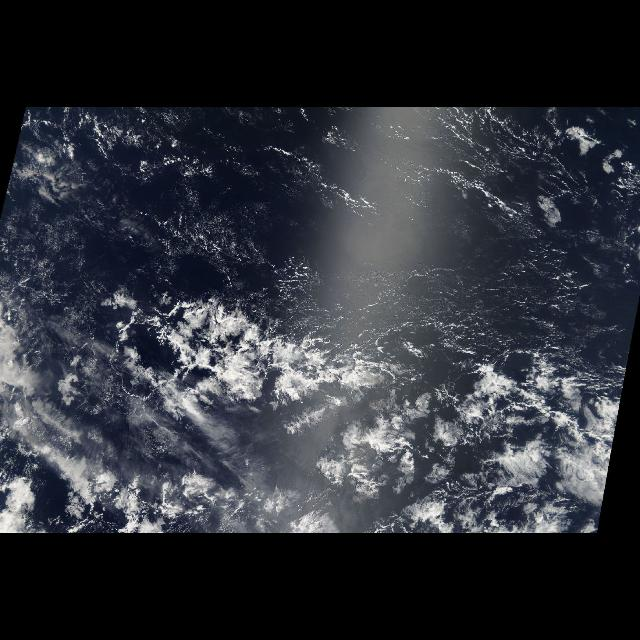Fish: (99, 288, 395, 416)
Sugar: (317, 235, 627, 352), (0, 182, 101, 444), (112, 196, 286, 270)
